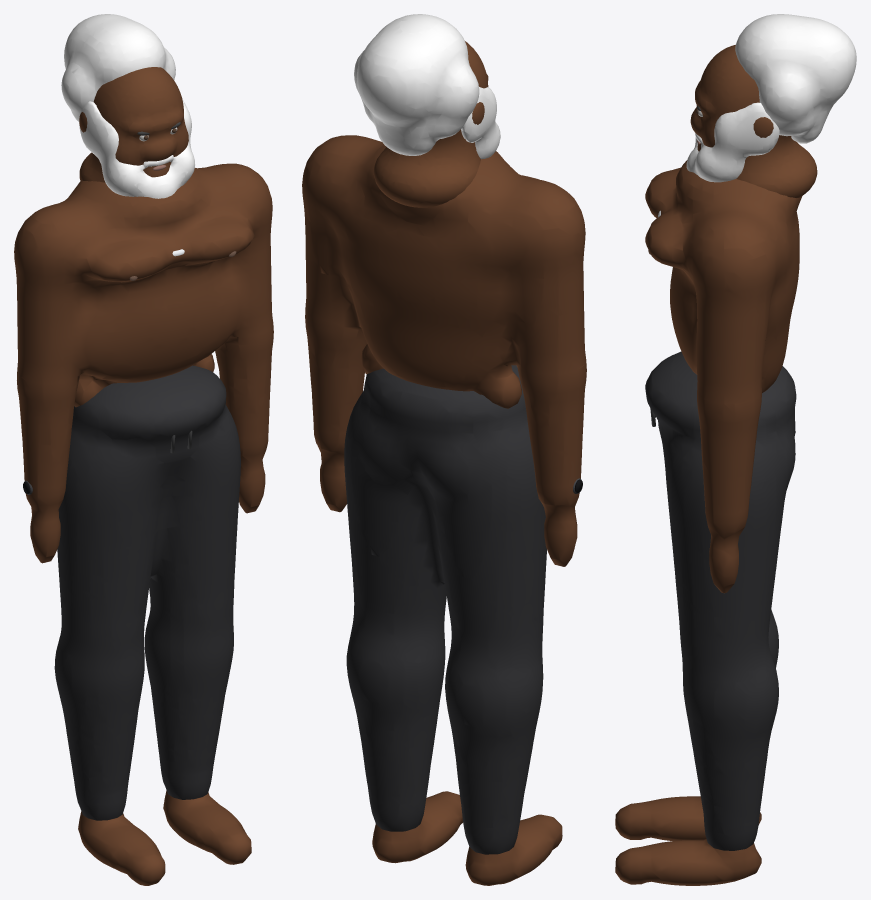
The picture shows the model from 3 angles, left to right: view 1: azimuth 30°, elevation 25°; view 2: azimuth 150°, elevation 25°; view 3: azimuth 270°, elevation 25°; orthographic projection. The views are drawn at different scales.
Parts seen in each view (by area): view 1: body, pants, head, hair, beard; view 2: pants, body, hair, head, beard; view 3: body, pants, hair, head, beard.
Part boxes in pixels (x1,y1,x2,y2): body: (14,163,273,885); pants: (54,365,240,820); head: (79,67,188,182); hair: (61,14,175,121); beard: (79,98,194,198); pants: (344,365,546,854); body: (302,135,586,885); hair: (354,14,479,155); head: (373,41,488,207); beard: (461,87,500,159); body: (615,160,802,885); pants: (645,351,796,850); hair: (735,14,856,143); head: (690,45,817,197); beard: (686,102,779,182).
Size of the model in its own units: 0.5883 by 1.8 by 0.4693.
